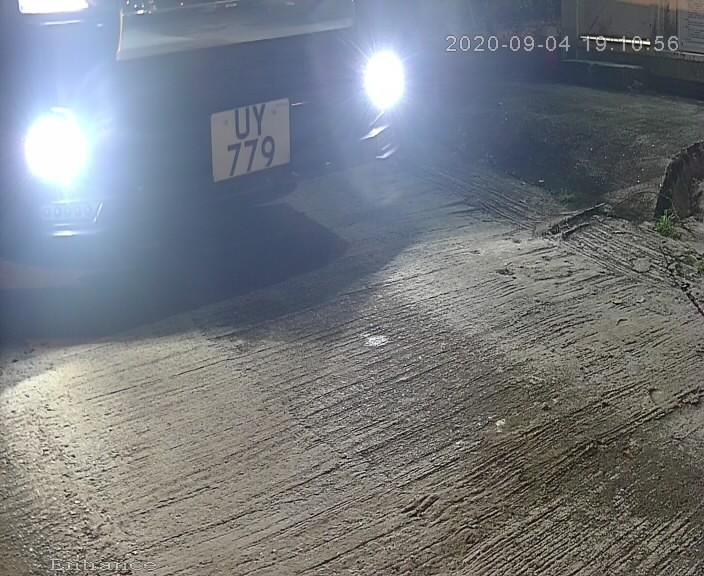License Plate: (205, 80, 302, 193)
